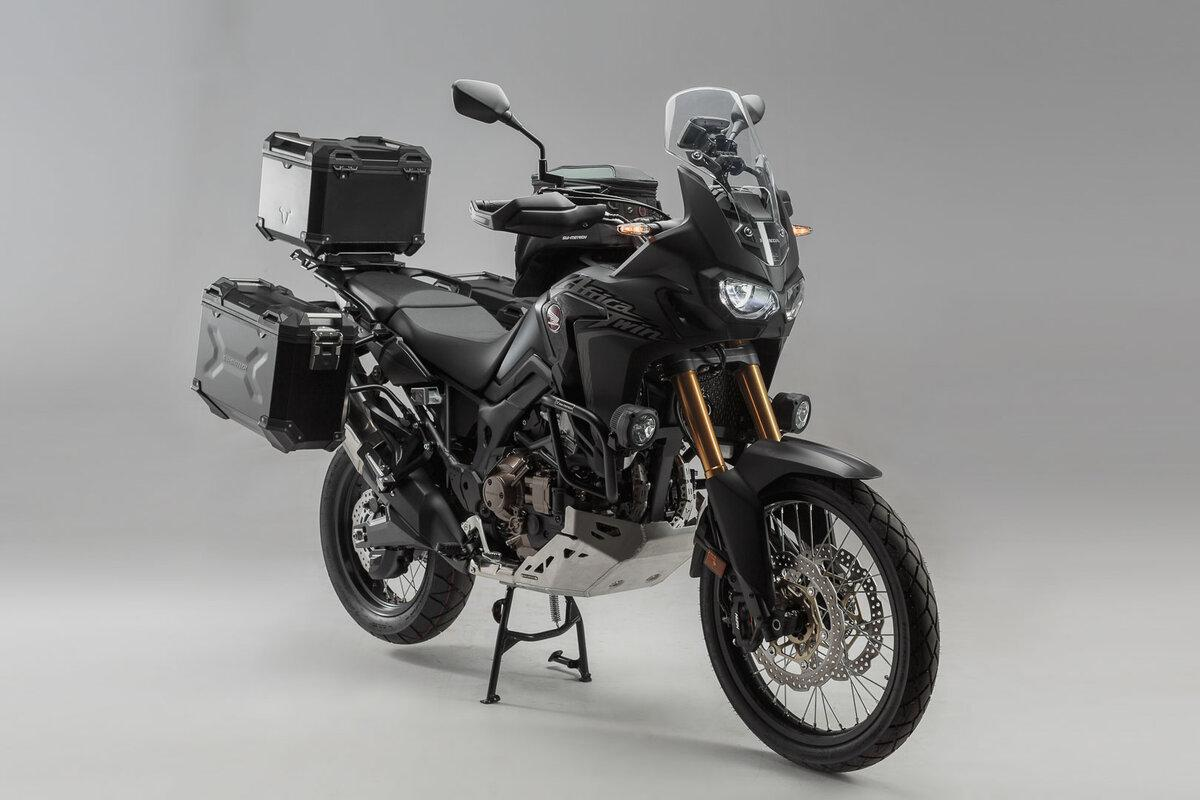engine-chasis: (436, 389, 708, 705)
exhaust: (342, 390, 473, 551)
frontside: (483, 86, 882, 652)
handlebar: (451, 78, 674, 238), (740, 94, 765, 126), (630, 235, 654, 250)
motorbike: (192, 78, 939, 773)
rearside: (191, 131, 550, 512), (352, 503, 436, 551)
seat: (386, 306, 529, 390), (347, 271, 480, 322)
tank: (512, 223, 634, 297), (549, 164, 662, 210), (537, 254, 617, 298)
wheel: (700, 474, 941, 771), (319, 445, 476, 644), (674, 392, 699, 457), (697, 342, 727, 385), (706, 494, 724, 551), (717, 578, 731, 617)
